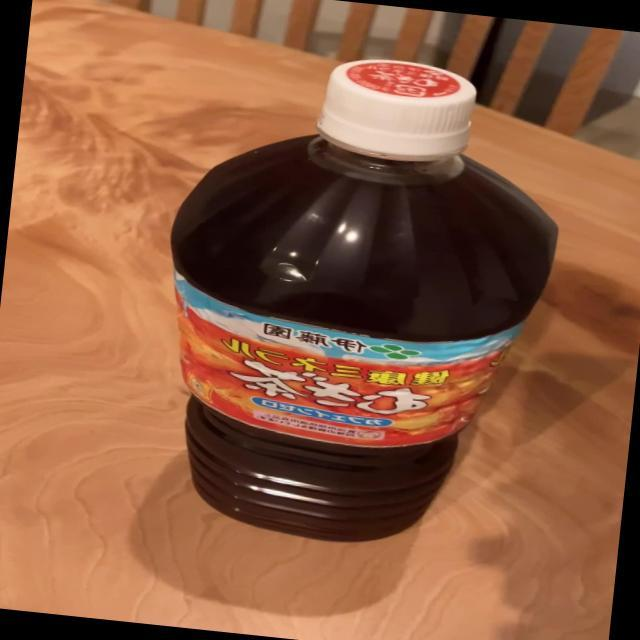good: (136, 37, 579, 565)
